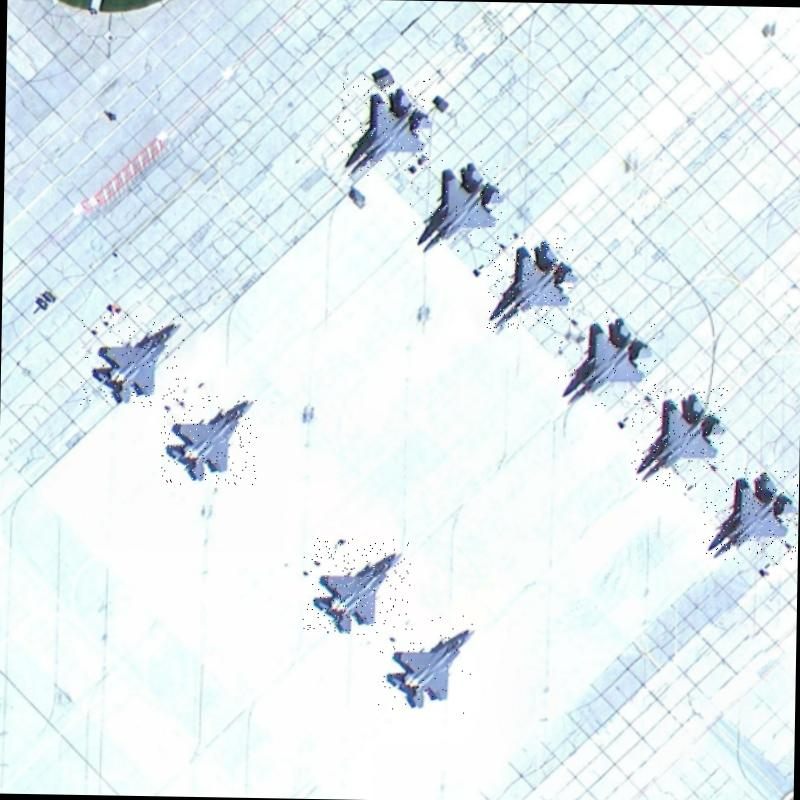A13: (302, 536, 411, 636), (78, 312, 188, 410), (553, 308, 657, 408), (630, 385, 728, 488), (376, 614, 476, 714), (336, 76, 431, 176), (702, 467, 798, 565), (160, 392, 260, 485), (408, 159, 503, 255), (486, 237, 573, 332)
